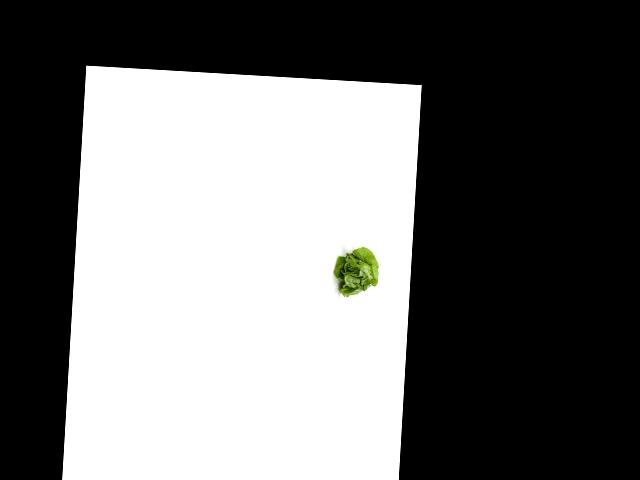lettuce: (329, 244, 384, 300)
